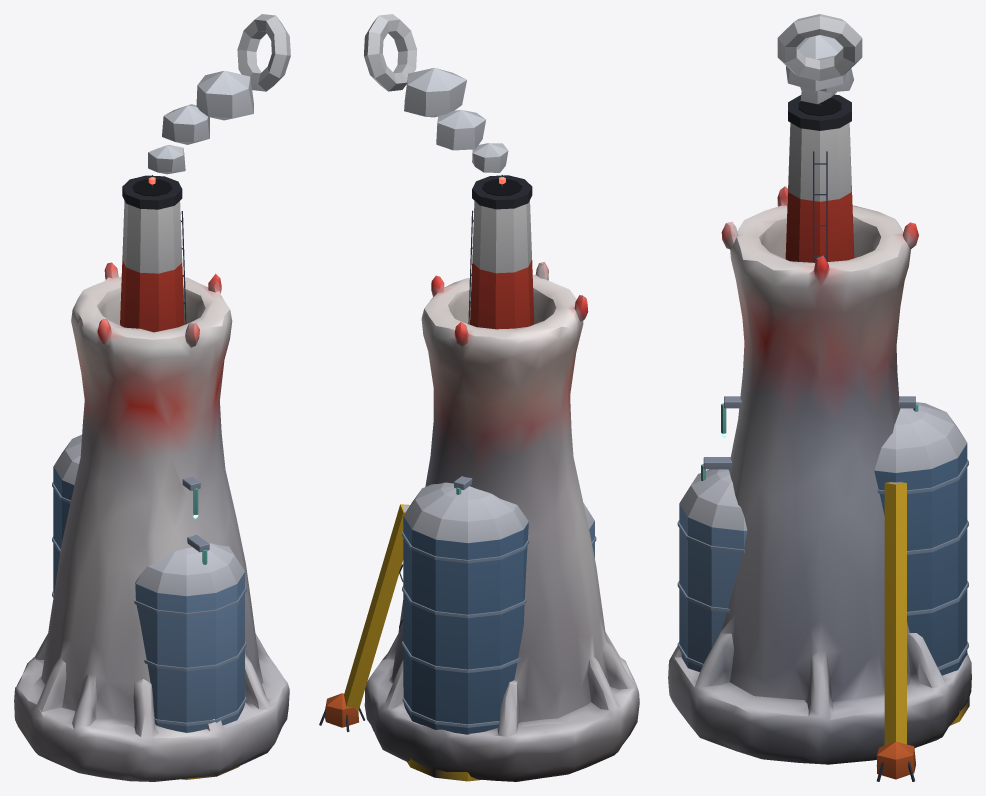
The model's file is scenery-industry.glb.
The picture shows the model from 3 angles, left to right: view 1: azimuth 30°, elevation 25°; view 2: azimuth 150°, elevation 25°; view 3: azimuth 270°, elevation 25°; orthographic projection. The views are drawn at different scales.
Parts seen in each view (by area): view 1: prop-cooling_tower, prop-silo, prop-smokestack, prop-pylon; view 2: prop-cooling_tower, prop-silo, prop-smokestack; view 3: prop-cooling_tower, prop-silo, prop-smokestack, prop-pylon.
Part boxes in pixels (bbox=[...]): prop-cooling_tower: bbox=[14, 262, 289, 781]; prop-silo: bbox=[52, 435, 246, 779]; prop-smokestack: bbox=[120, 14, 290, 332]; prop-pylon: bbox=[182, 476, 209, 564]; prop-cooling_tower: bbox=[364, 262, 639, 781]; prop-silo: bbox=[319, 482, 596, 781]; prop-smokestack: bbox=[364, 14, 534, 329]; prop-cooling_tower: bbox=[668, 186, 971, 764]; prop-silo: bbox=[677, 402, 969, 781]; prop-smokestack: bbox=[777, 14, 862, 262]; prop-pylon: bbox=[701, 396, 918, 480].
Bounding box in the file's own units: 15.04 × 37.4 × 13.6.
